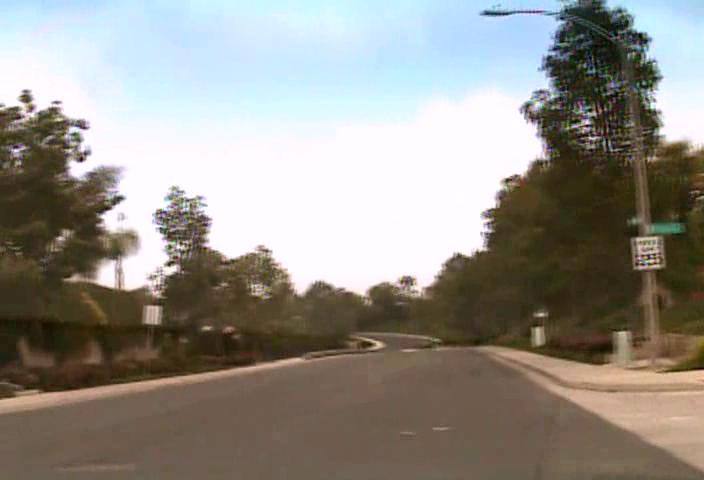speedLimit25: (633, 236, 663, 269)
